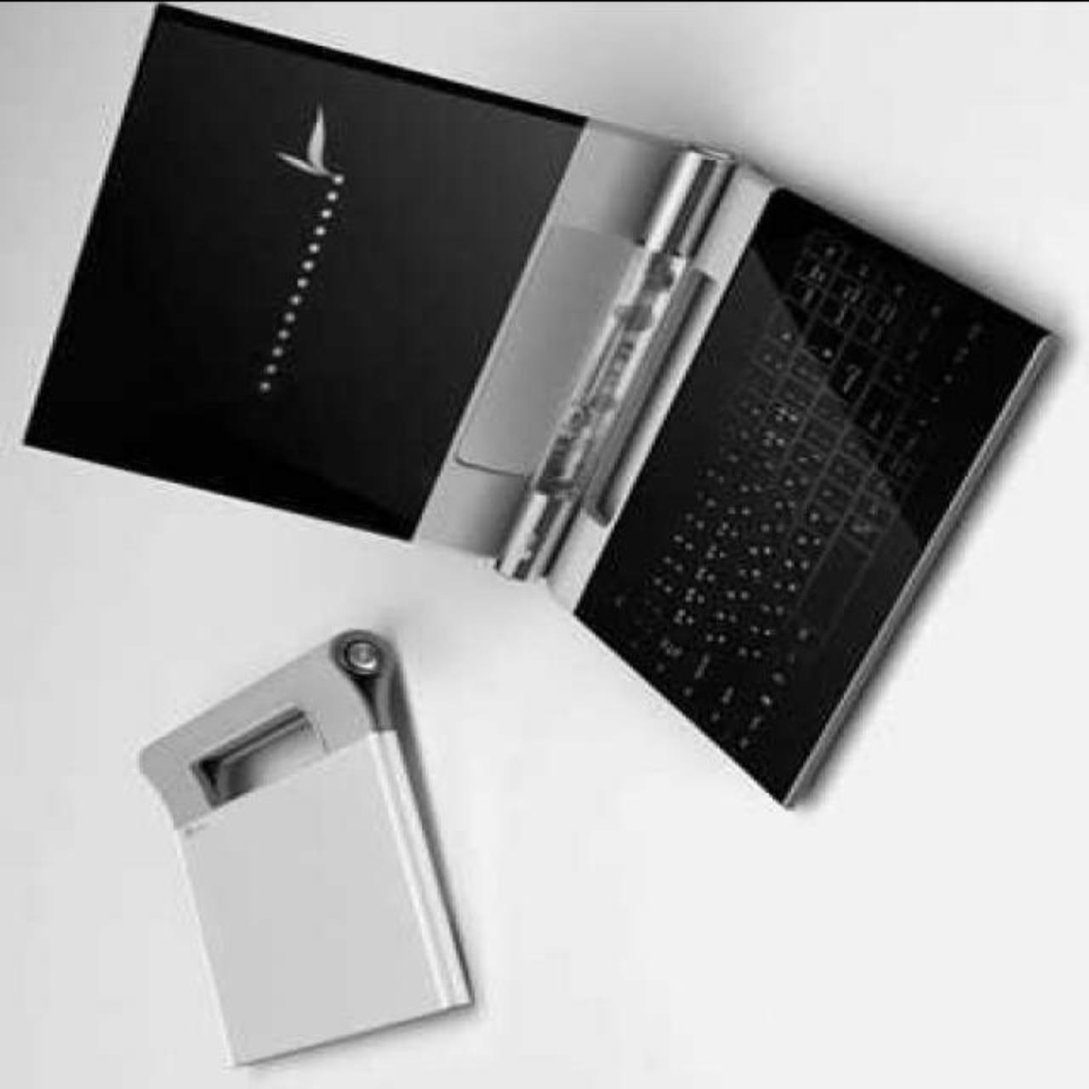laptop: (21, 1, 1000, 775)
